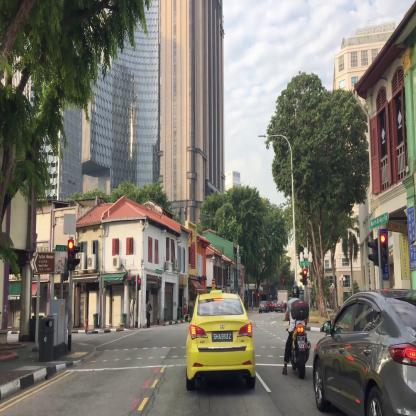red_traffic_light: (380, 235, 386, 265), (68, 240, 74, 269), (303, 270, 306, 284)
